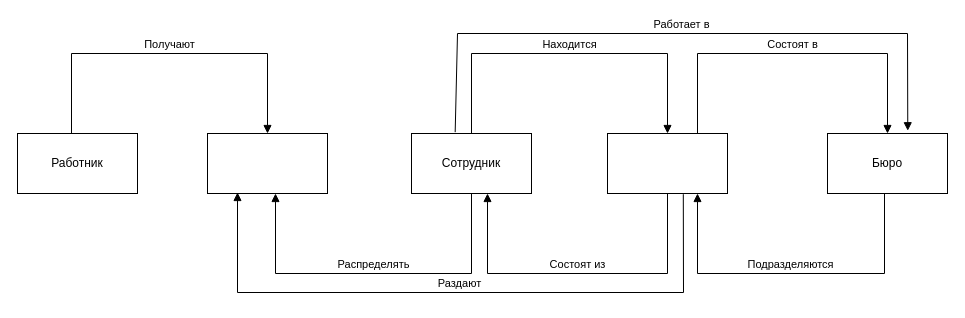
Some shapes in this 965 by 318 pixel diagram are drawn without their labels. Each missing label, with the centre of its shape:
"Вакансии" belongs at point (267, 163).
"Отделы Бюро" belongs at point (667, 163).
